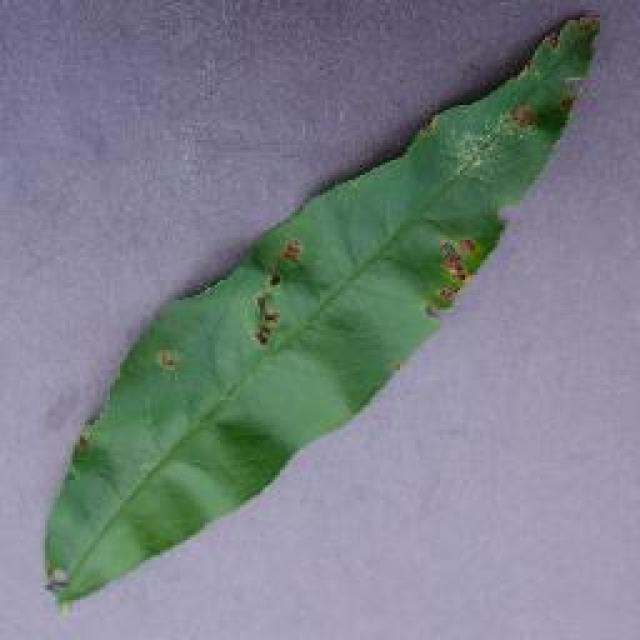Peach_Bacterial_Spot: (202, 207, 505, 408)
